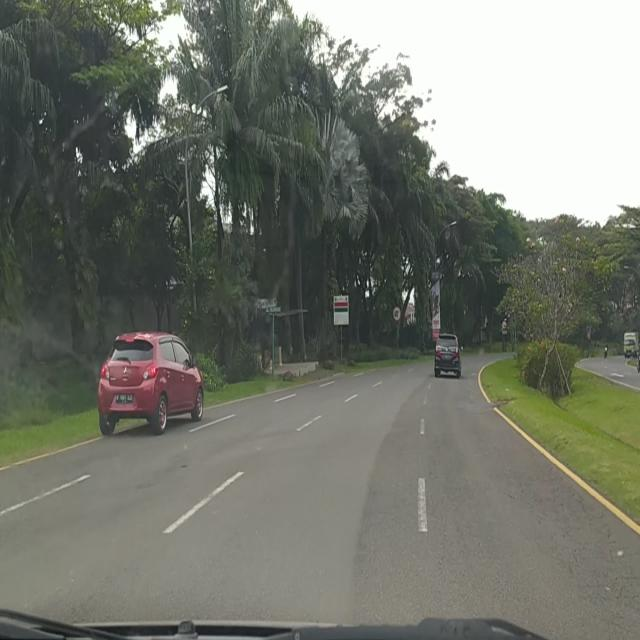Drain Hole: (520, 478, 622, 596)
